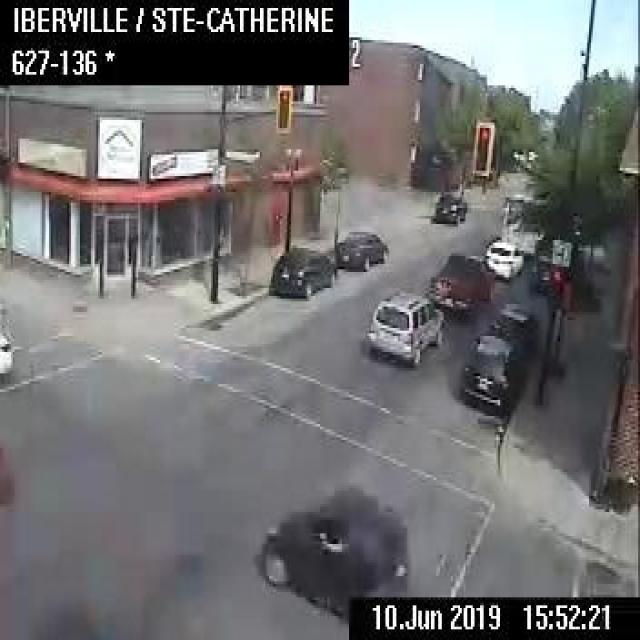vehicle: (256, 486, 409, 618), (364, 288, 442, 362), (458, 333, 518, 413), (428, 248, 490, 317), (267, 240, 334, 299), (486, 300, 536, 365), (328, 227, 386, 271), (482, 238, 522, 280), (433, 192, 469, 224), (0, 322, 16, 376)
